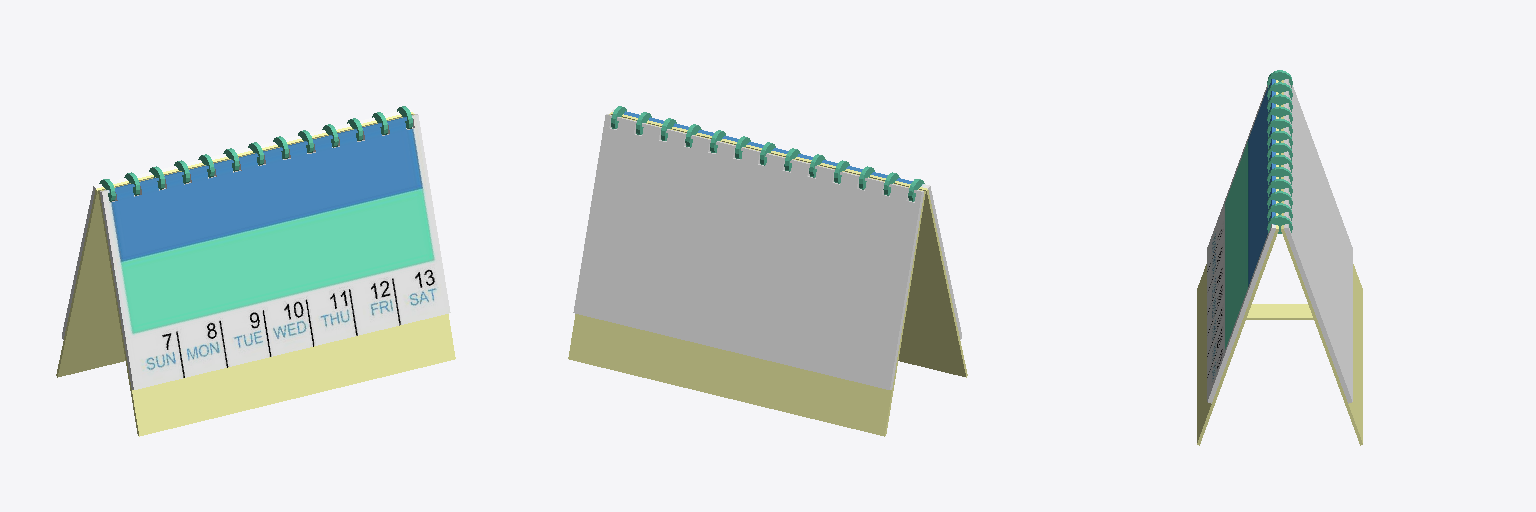
3 views of the same model, side by side, from view 1: azimuth 30°, elevation 25°; view 2: azimuth 150°, elevation 25°; view 3: azimuth 270°, elevation 25° (orthographic).
Visible parts, largest first — view 1: Mesh2 Calendar_C01_1 Calendar_LowPoly1 Model, Mesh5 Calendar_C02_1 Calendar_LowPoly1 Model; view 2: Mesh5 Calendar_C02_1 Calendar_LowPoly1 Model, Mesh2 Calendar_C01_1 Calendar_LowPoly1 Model; view 3: Mesh5 Calendar_C02_1 Calendar_LowPoly1 Model, Mesh2 Calendar_C01_1 Calendar_LowPoly1 Model.
Part boxes in pixels (left/top/right/bottom): Mesh2 Calendar_C01_1 Calendar_LowPoly1 Model: left=98, top=114, right=455, bottom=436; Mesh5 Calendar_C02_1 Calendar_LowPoly1 Model: left=56, top=109, right=413, bottom=377; Mesh5 Calendar_C02_1 Calendar_LowPoly1 Model: left=568, top=114, right=925, bottom=436; Mesh2 Calendar_C01_1 Calendar_LowPoly1 Model: left=610, top=109, right=967, bottom=377; Mesh5 Calendar_C02_1 Calendar_LowPoly1 Model: left=1246, top=79, right=1362, bottom=445; Mesh2 Calendar_C01_1 Calendar_LowPoly1 Model: left=1197, top=79, right=1278, bottom=445.
Size of the model in its own units: 23 by 15.61 by 10.48.
Materials: 4 (1 with a texture image).